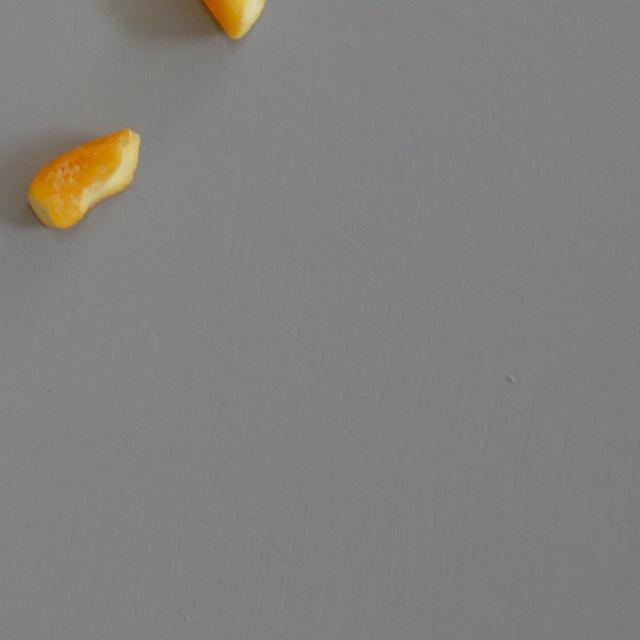estandar: (180, 0, 266, 38)
pelicula: (25, 126, 141, 228)
